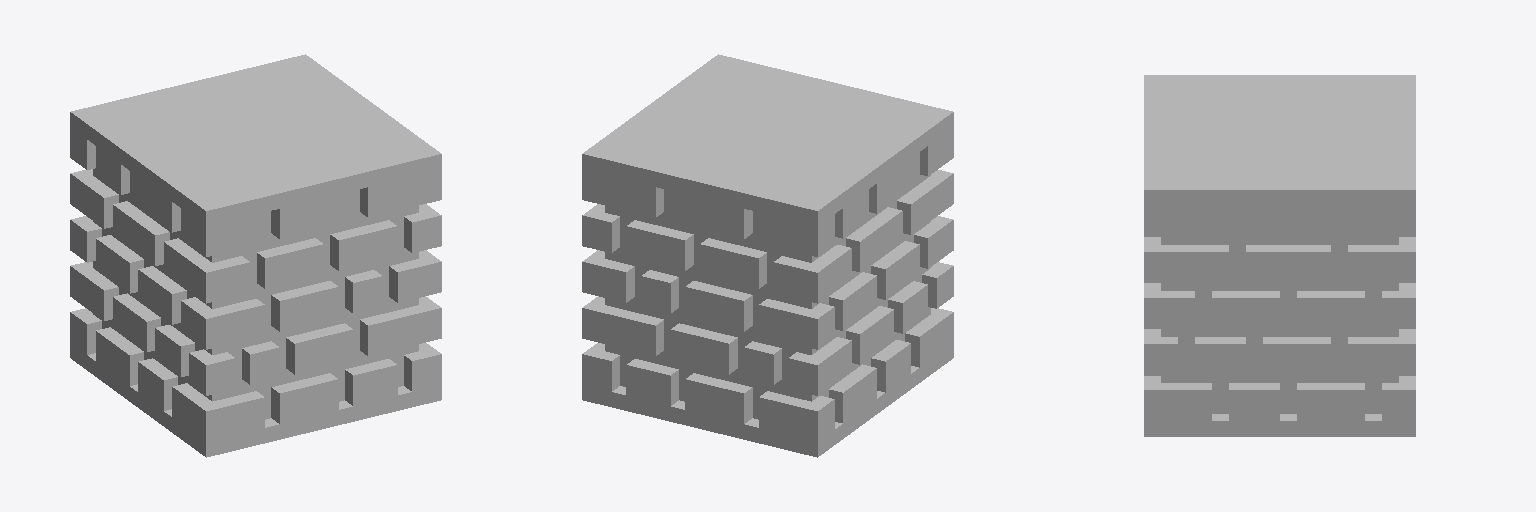
Rendered from Block.obj.
3 renders of one model, left to right at view 1: azimuth 30°, elevation 25°; view 2: azimuth 150°, elevation 25°; view 3: azimuth 270°, elevation 25°, orthographic.
Parts seen in each view (by area): view 1: object 1; view 2: object 1; view 3: object 1.
Boxes of the visible parts, x1,y1,x2,y2 form: object 1: [70, 54, 441, 457]; object 1: [582, 54, 953, 457]; object 1: [1144, 75, 1415, 436].
Size of the model in its own units: 1.6 by 1.6 by 1.6.